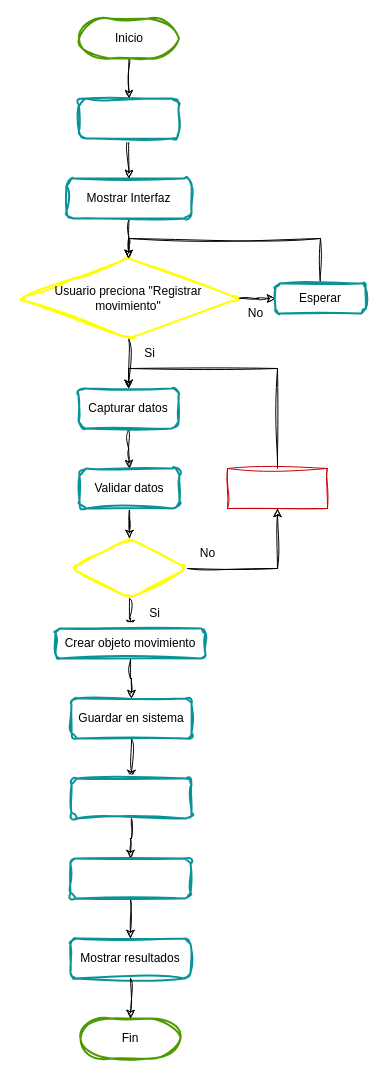
Image size: 383x1076. Some labels were removed from this diagram. Each missing label, with the centre of its shape:
Abrir aplicación: (x=129, y=118)
Actualizar tabla: (x=131, y=798)
Calcular balance: (x=130, y=878)
Datos validos: (x=129, y=568)
Mostrar Error: (x=277, y=488)
